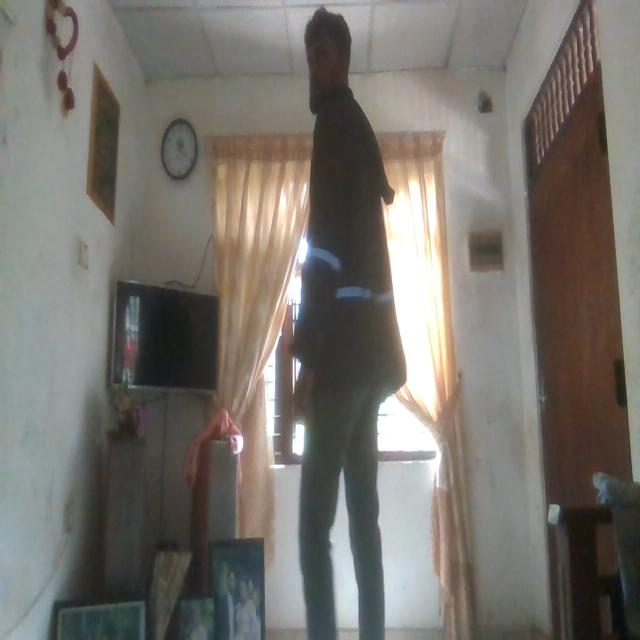Jacket_Wearer: (296, 87, 403, 411)
Person: (282, 18, 413, 620)
